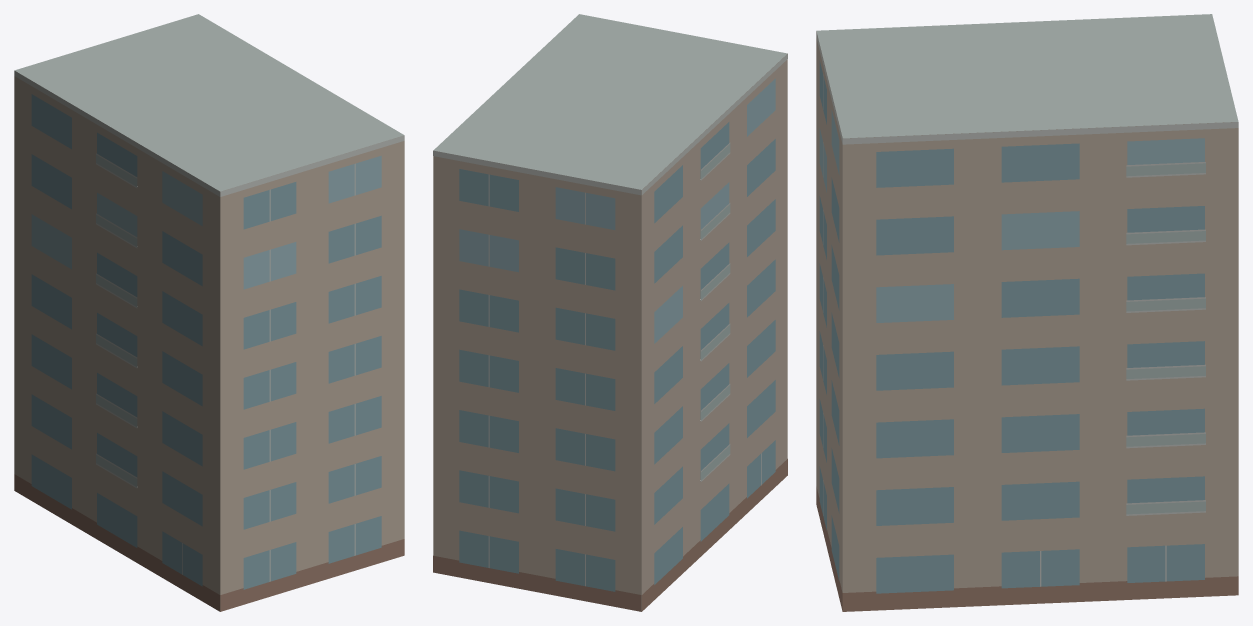
File: survey-upis-33038343.glb
3 views of the same model, side by side, from view 1: azimuth 30°, elevation 25°; view 2: azimuth 150°, elevation 25°; view 3: azimuth 270°, elevation 25° (orthographic). The views are drawn at different scales.
Visible parts, largest first — view 1: survey-upis-33038343.tmp; view 2: survey-upis-33038343.tmp; view 3: survey-upis-33038343.tmp.
Boxes of the visible parts, bbox=[...] form: survey-upis-33038343.tmp: bbox=[14, 14, 404, 611]; survey-upis-33038343.tmp: bbox=[433, 14, 787, 611]; survey-upis-33038343.tmp: bbox=[816, 14, 1238, 611].
Bounding box in the file's own units: 10.49 × 18.6 × 15.04.
